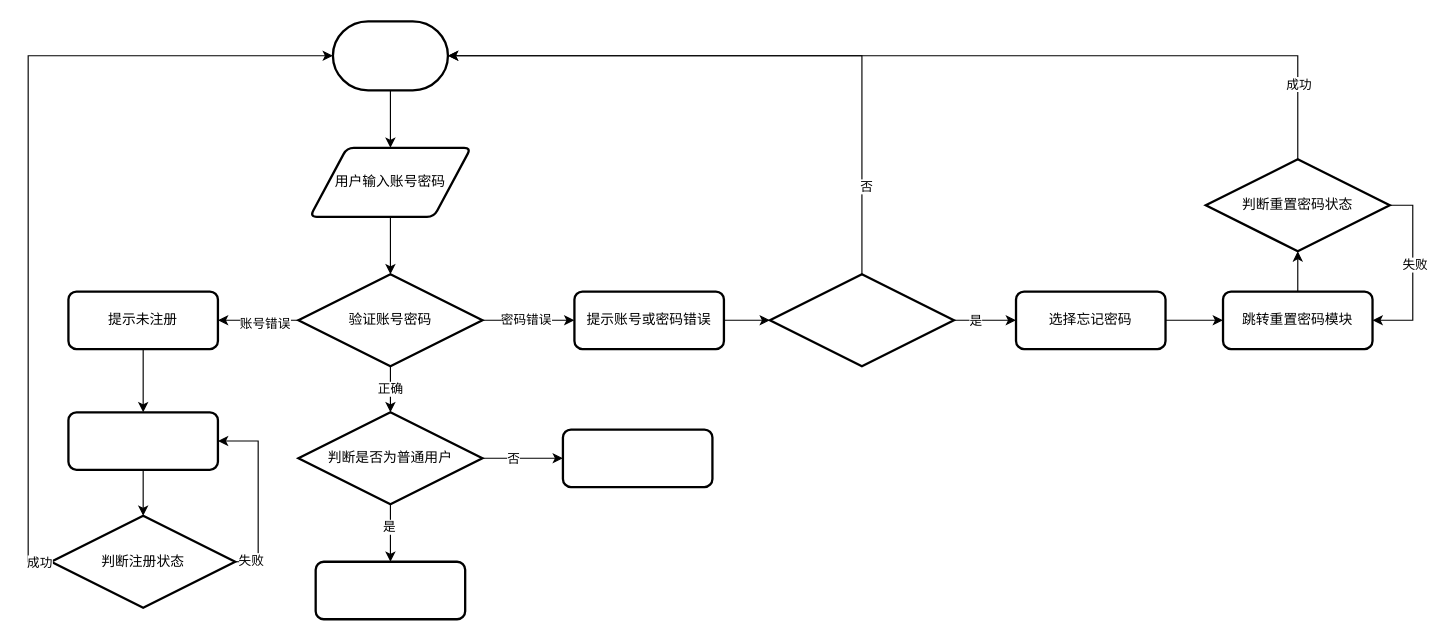
Image size: 1447x639. Some labels were removed from this diagram. Each missing label, with the centre of its shape:
"判断是否重置密码" belongs at (x=861, y=320).
"开始" belongs at (x=389, y=55).
"显示普通用户界面" belongs at (x=390, y=590).
"显示管理员界面" belongs at (x=637, y=458).
"跳转注册模块" belongs at (x=142, y=440).
